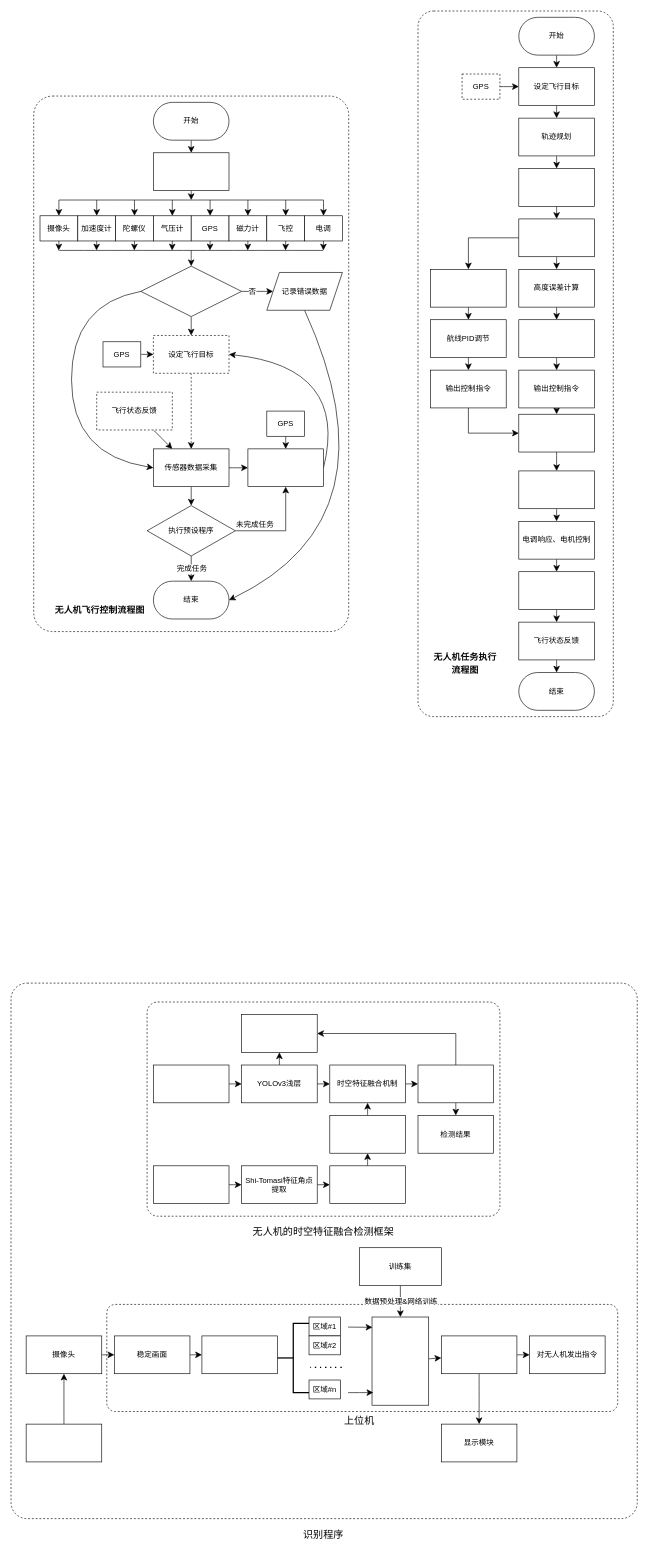
The diagram is 648 pixels wide and 1555 high, and some of its shapes have lost their labels. The box of each missing label's shape, as (x1, y1, x2, y2) in pixels:
LK稀疏光流特征图的设计与生成: (329, 1165, 405, 1204)
PID控制器: (518, 218, 594, 257)
YOLOv3(FPN 特征金字塔网络): (417, 1064, 494, 1103)
YＯLＯv3 单帧目标检测算法: (241, 1014, 317, 1052)
上电自检: (153, 152, 229, 191)
多帧稀疏光流: (153, 1165, 229, 1204)
时序特征提取模块: (329, 1115, 405, 1153)
时空特征融合检测模型: (371, 1316, 429, 1405)
检测场景: (26, 1423, 102, 1462)
混合控制器: (518, 414, 594, 452)
电机输出: (518, 571, 594, 610)
电调控制指令生成: (518, 470, 594, 509)
画面分块: (201, 1335, 278, 1374)
目标状态计算: (518, 168, 594, 206)
稀疏光流: (153, 1064, 229, 1103)
结果整合: (441, 1335, 517, 1374)
航线误差计算: (430, 269, 506, 307)
评估与修正: (247, 448, 324, 487)
飞控板各个模块是否正常: (140, 266, 242, 317)
高度PID调节: (518, 319, 594, 358)
